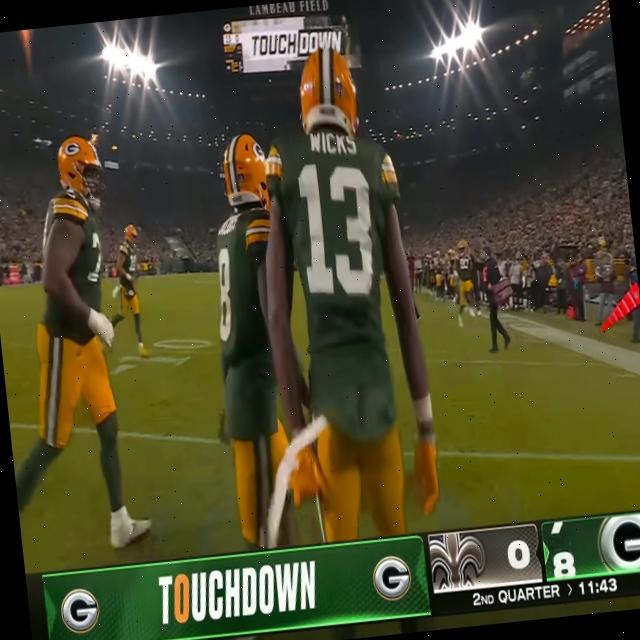Player: (268, 37, 416, 532), (18, 132, 136, 534), (199, 126, 306, 540), (105, 220, 149, 350)
